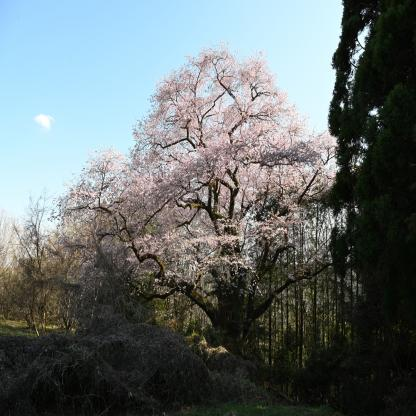EdohiganSakura: (47, 38, 340, 346)
